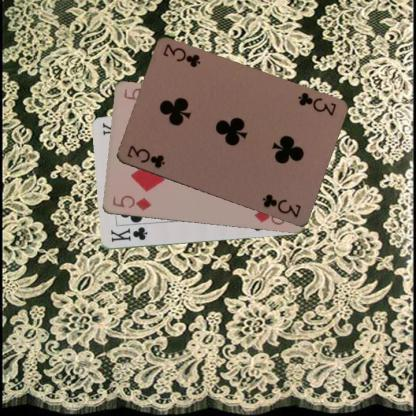3c: (124, 143, 166, 170), (296, 90, 338, 117)
5d: (110, 193, 152, 212)
Kc: (108, 225, 149, 243)
